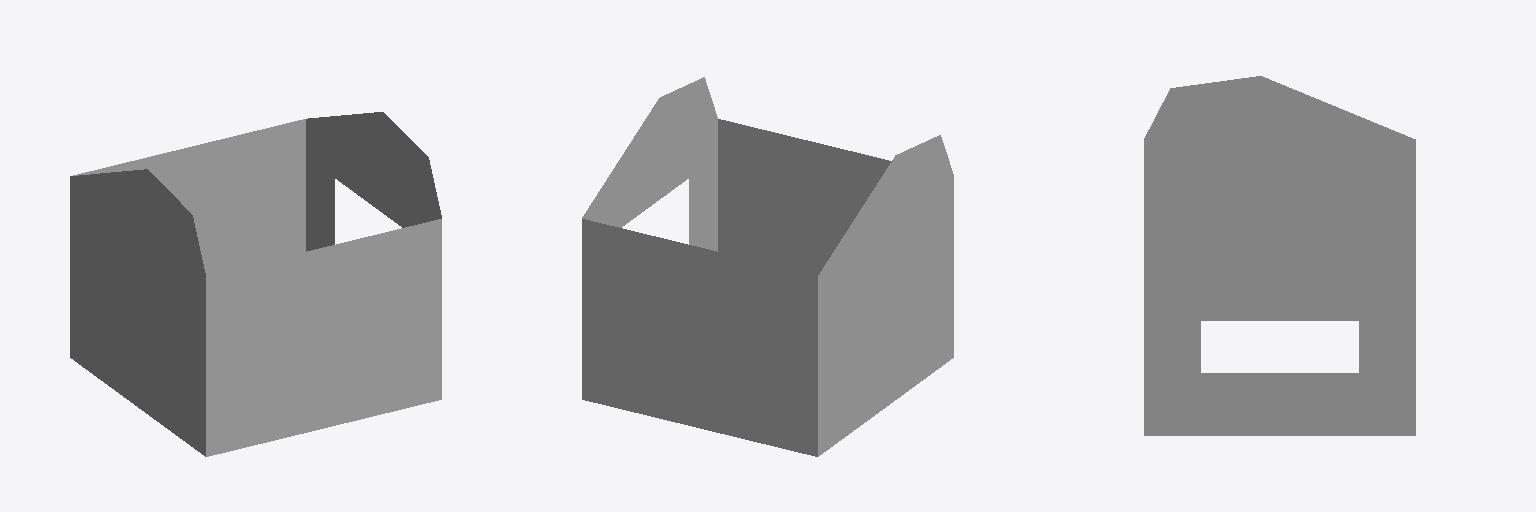
The model's file is Wall_1.obj.
3 views of the same model, side by side, from view 1: azimuth 30°, elevation 25°; view 2: azimuth 150°, elevation 25°; view 3: azimuth 270°, elevation 25° (orthographic).
Parts seen in each view (by area): view 1: Plane.011_Plane.049; view 2: Plane.011_Plane.049; view 3: Plane.011_Plane.049.
Boxes of the visible parts, <box> form: Plane.011_Plane.049: <box>70,112,441,456</box>; Plane.011_Plane.049: <box>582,77,953,456</box>; Plane.011_Plane.049: <box>1144,76,1415,435</box>.
Bounding box in the file's own units: 14.53 × 14.41 × 14.53.